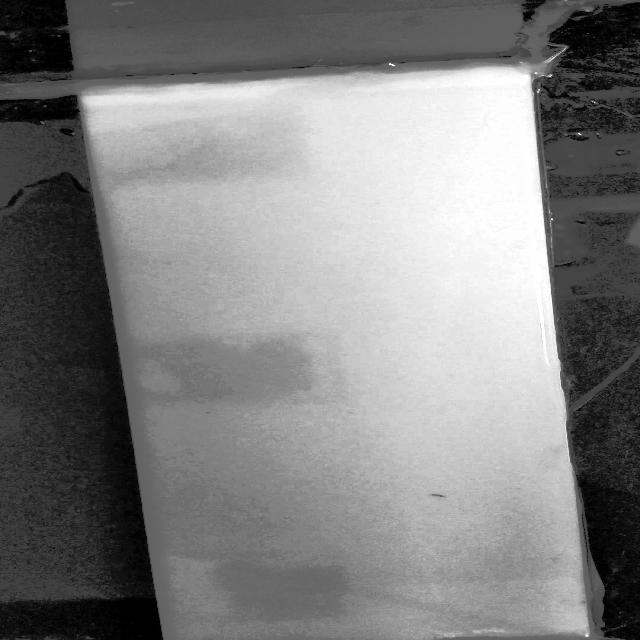shrimp: (425, 488, 459, 502)
